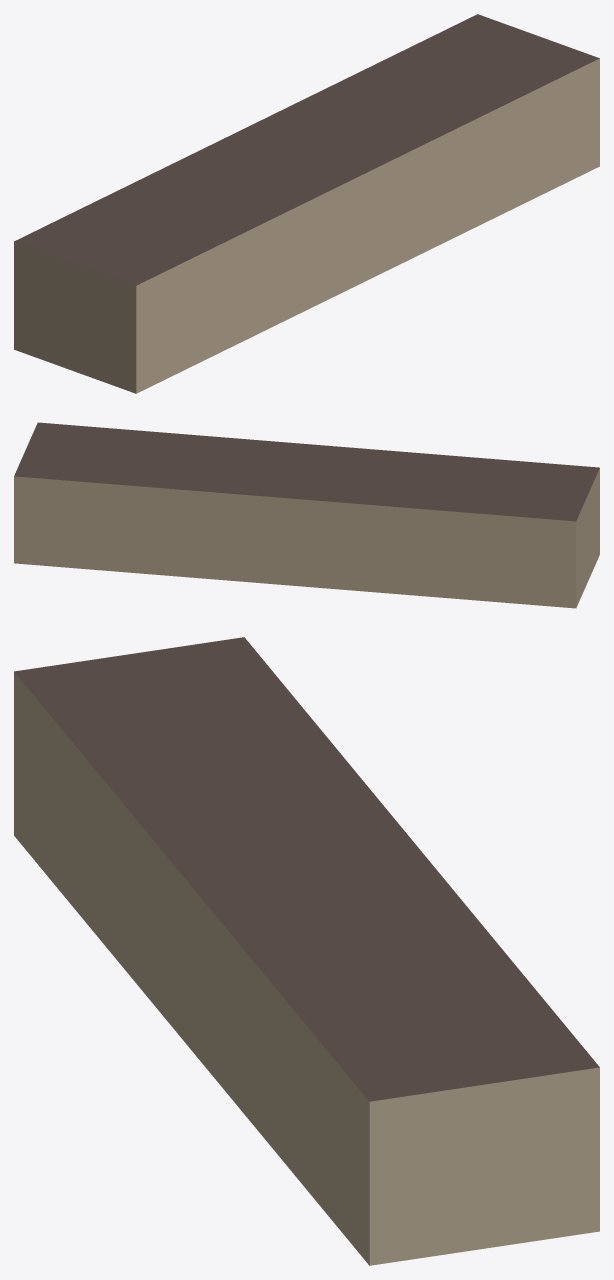
3 renders of one model, top to bottom at view 1: azimuth 30°, elevation 25°; view 2: azimuth 150°, elevation 25°; view 3: azimuth 270°, elevation 25°, orthographic. The views are drawn at different scales.
Parts seen in each view (by area): view 1: HP-w859078894; view 2: HP-w859078894; view 3: HP-w859078894.
Boxes of the visible parts, <box> form: HP-w859078894: <box>14,14,599,393</box>; HP-w859078894: <box>14,422,599,608</box>; HP-w859078894: <box>14,637,599,1265</box>.
Size of the model in its own units: 54.65 by 9 by 29.13.
